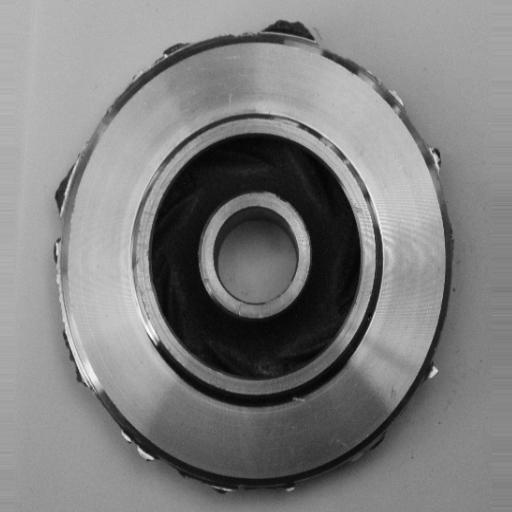casting_with_burr: (50, 18, 458, 498)
scratch: (128, 271, 172, 354)
